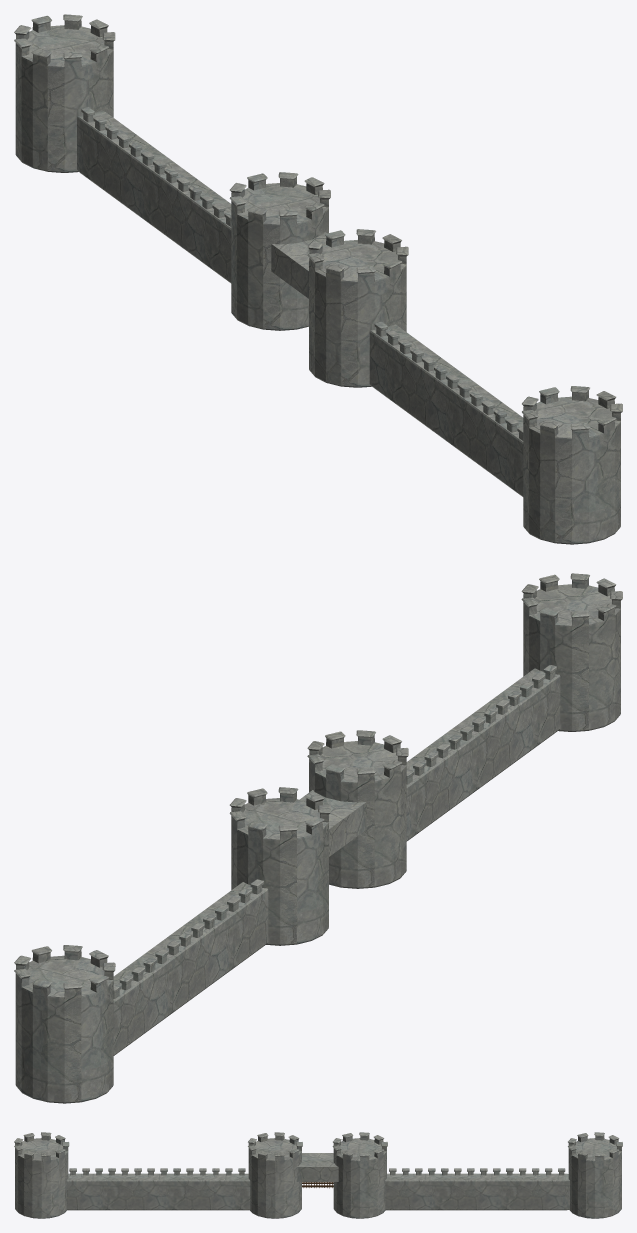
Rendered from Wall.dae.
3 views of the same model, one above another, from view 1: azimuth 30°, elevation 25°; view 2: azimuth 150°, elevation 25°; view 3: azimuth 270°, elevation 25° (orthographic). The views are drawn at different scales.
Visible parts, largest first — view 1: Tower16, Tower45, Tower1, wall2, wall1, Tower3, Base; view 2: Tower45, Tower3, Tower16, wall2, wall1, Tower1, Base; view 3: wall2, wall1, Tower45, Tower16, Tower3, Tower1, Base, Gate.
Boxes of the visible parts, bbox=[...] form: Tower16: bbox=[522, 386, 622, 544]; Tower45: bbox=[14, 14, 115, 172]; Tower1: bbox=[307, 229, 408, 387]; wall2: bbox=[77, 110, 231, 283]; wall1: bbox=[369, 324, 523, 496]; Tower3: bbox=[229, 172, 330, 330]; Base: bbox=[271, 232, 327, 298]; Tower45: bbox=[14, 945, 115, 1103]; Tower3: bbox=[229, 787, 330, 945]; Tower16: bbox=[521, 573, 622, 731]; wall2: bbox=[113, 879, 268, 1055]; wall1: bbox=[406, 665, 560, 841]; Tower1: bbox=[307, 730, 408, 888]; Base: bbox=[299, 790, 366, 856]; wall2: bbox=[385, 1168, 569, 1210]; wall1: bbox=[66, 1168, 250, 1210]; Tower45: bbox=[568, 1132, 622, 1218]; Tower16: bbox=[14, 1132, 69, 1218]; Tower3: bbox=[332, 1132, 387, 1218]; Tower1: bbox=[248, 1132, 302, 1218]; Base: bbox=[296, 1153, 338, 1181]; Gate: bbox=[302, 1182, 333, 1188].
Bounding box in the file's own units: 216 × 271 × 2346.
